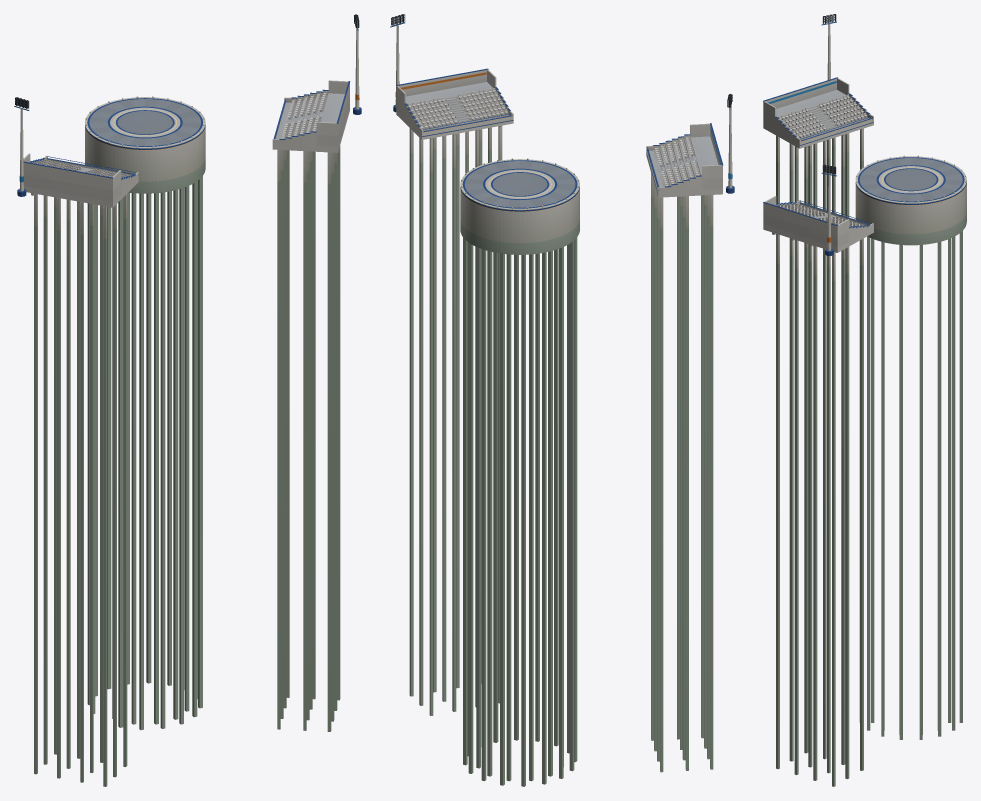
File: result_arena.glb
The picture shows the model from 3 angles, left to right: view 1: azimuth 30°, elevation 25°; view 2: azimuth 150°, elevation 25°; view 3: azimuth 270°, elevation 25°; orthographic projection. The views are drawn at different scales.
Visible parts, largest first — view 1: RA_Deck, RA_WingL, RA_WingR, RA_Lid, RA_Masts; view 2: RA_Deck, RA_WingR, RA_WingL, RA_Lid, RA_Masts; view 3: RA_WingR, RA_Deck, RA_WingL, RA_Lid, RA_Masts.
Boxes of the visible parts, x1=… form: RA_Deck: x1=85, y1=96, x2=205, y2=730; RA_WingL: x1=23, y1=153, x2=138, y2=786; RA_WingR: x1=272, y1=80, x2=350, y2=731; RA_Lid: x1=110, y1=107, x2=180, y2=137; RA_Masts: x1=14, y1=14, x2=361, y2=196; RA_Deck: x1=460, y1=158, x2=579, y2=786; RA_WingR: x1=396, y1=68, x2=513, y2=715; RA_WingL: x1=646, y1=123, x2=723, y2=772; RA_Lid: x1=485, y1=169, x2=554, y2=198; RA_Masts: x1=390, y1=14, x2=734, y2=193; RA_WingR: x1=763, y1=196, x2=873, y2=786; RA_Deck: x1=855, y1=155, x2=966, y2=739; RA_WingL: x1=763, y1=77, x2=873, y2=217; RA_Lid: x1=878, y1=166, x2=943, y2=193; RA_Masts: x1=821, y1=14, x2=836, y2=256.
Bounding box in the file's own units: 78.84 × 149 × 43.91.
